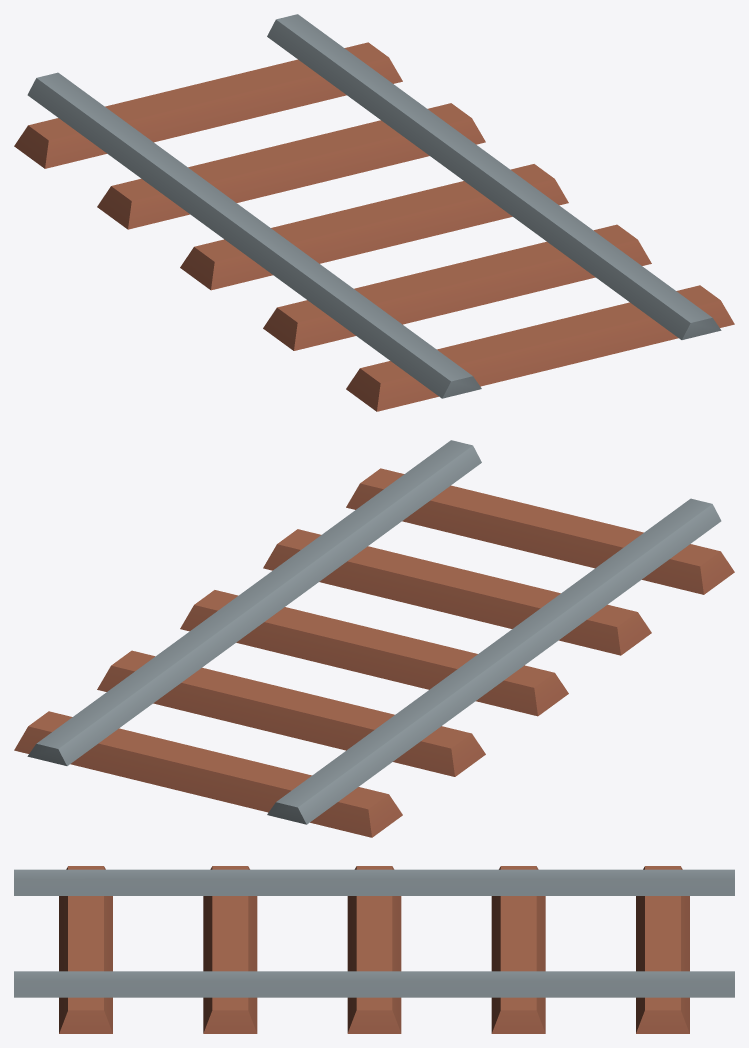
File: tracks_straight.obj
3 renders of one model, top to bottom at view 1: azimuth 30°, elevation 25°; view 2: azimuth 150°, elevation 25°; view 3: azimuth 270°, elevation 25°, orthographic. The views are drawn at different scales.
Parts seen in each view (by area): view 1: tracks_straight; view 2: tracks_straight; view 3: tracks_straight.
Part boxes in pixels (bbox=[...]): tracks_straight: bbox=[14, 14, 734, 411]; tracks_straight: bbox=[14, 440, 734, 837]; tracks_straight: bbox=[14, 866, 734, 1033].
Bounding box in the file's own units: 0.4985 × 0.05 × 1.
Materials: 1 (1 with a texture image).
